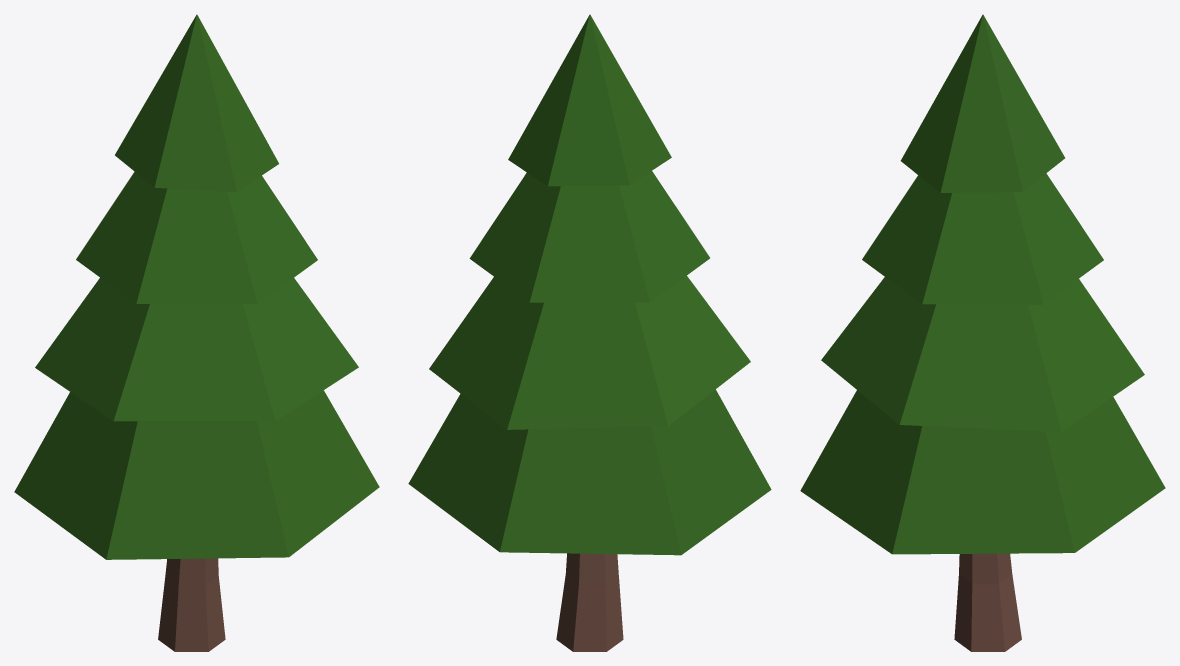
Rendered from Pine_Tree_Large_1.fbx.
3 renders of one model, left to right at view 1: azimuth 30°, elevation 25°; view 2: azimuth 150°, elevation 25°; view 3: azimuth 270°, elevation 25°, orthographic.
Parts seen in each view (by area): view 1: Pine_Tree_Large_1; view 2: Pine_Tree_Large_1; view 3: Pine_Tree_Large_1.
Boxes of the visible parts, <box> form: Pine_Tree_Large_1: <box>14,14,379,651</box>; Pine_Tree_Large_1: <box>408,14,771,651</box>; Pine_Tree_Large_1: <box>800,14,1165,651</box>.
Size of the model in its own units: 768 by 1676 by 885.
Materials: 1 (1 with a texture image).
